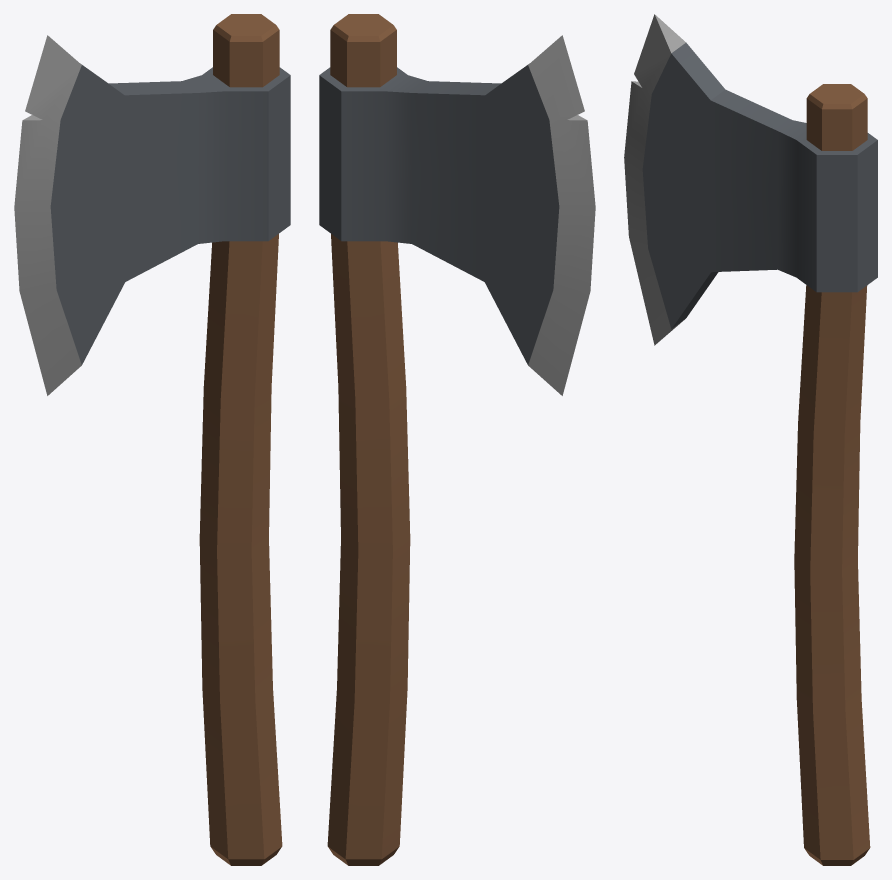
The model's file is Axe_01.glb.
The picture shows the model from 3 angles, left to right: view 1: azimuth 30°, elevation 25°; view 2: azimuth 150°, elevation 25°; view 3: azimuth 330°, elevation 25°; orthographic projection. The views are drawn at different scales.
Visible parts, largest first — view 1: Axe_01; view 2: Axe_01; view 3: Axe_01.
Boxes of the visible parts, x1,y1,x2,y2 form: Axe_01: (14,14,290,865); Axe_01: (319,14,595,865); Axe_01: (624,14,877,865).
Size of the model in its own units: 0.2261 by 0.7071 by 0.0655.
Materials: 1 (1 with a texture image).
